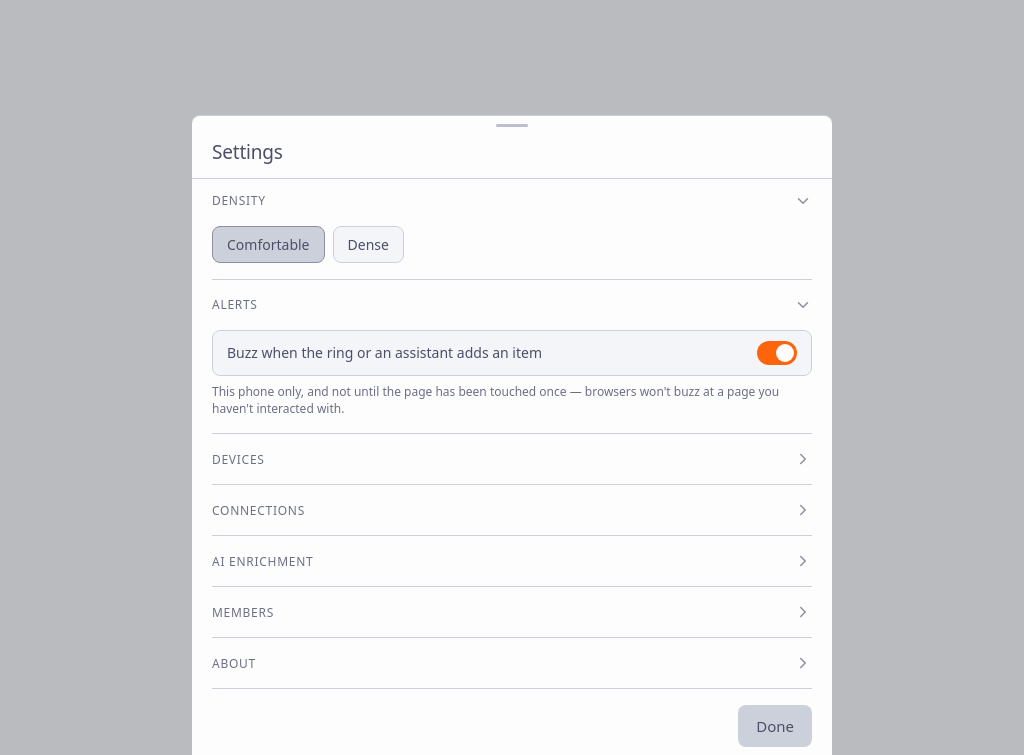
SettingsSheet › persists a section toggle to localStorage
The width and height of the screenshot is (1024, 755).
(page scrolled)
Click the button "Members". click: click(243, 612)
box: 212,587 -> 812,637
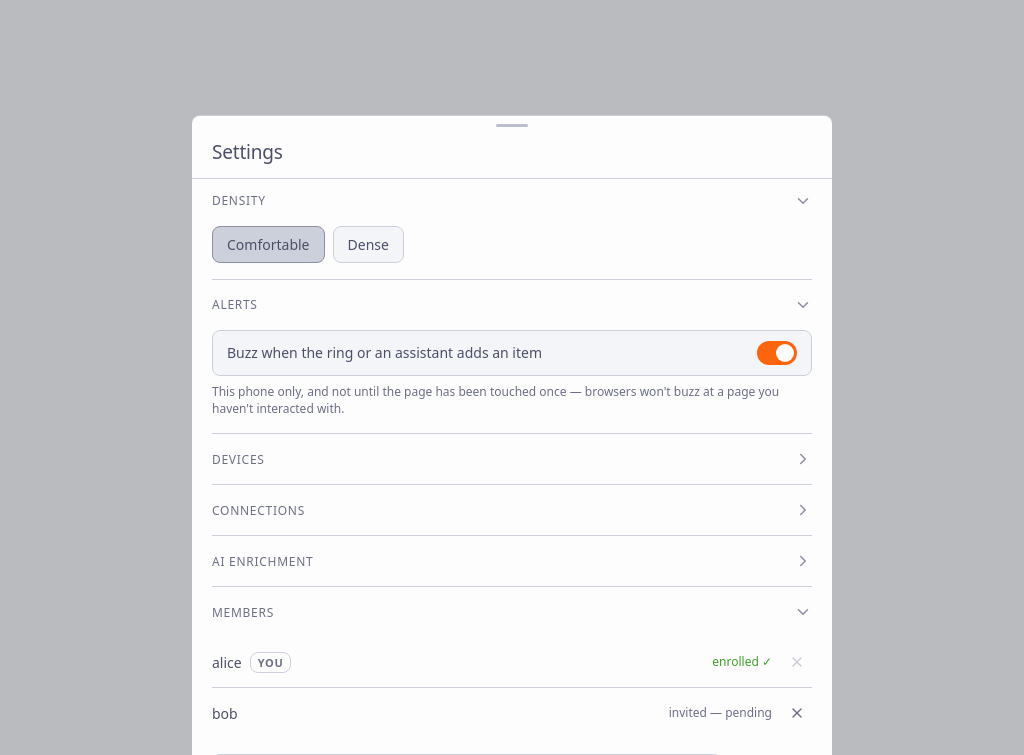
Now the button "Members" is expanded, box 212,587 -> 812,637
